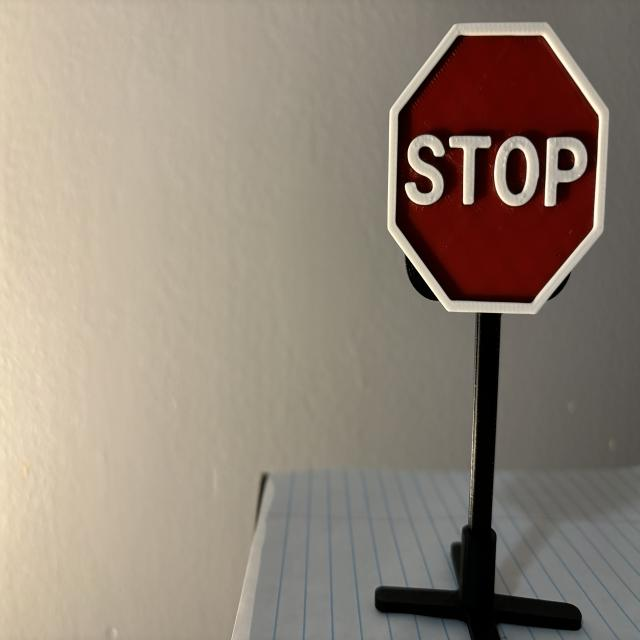sign_stop: (389, 22, 609, 315)
